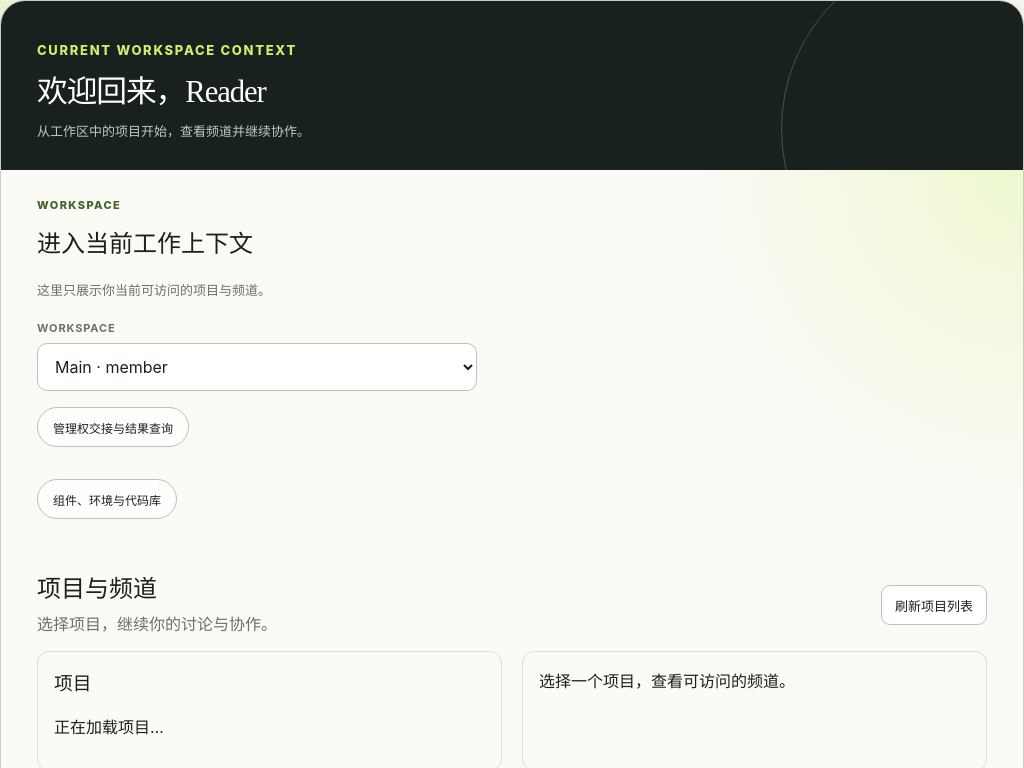
Test: Workspace discovery › clears the old workspace and ignores its late response
The width and height of the screenshot is (1024, 768).
Select "Other · member" in the dropdown labelled "Workspace" at (257,367), box [37, 343, 477, 391]
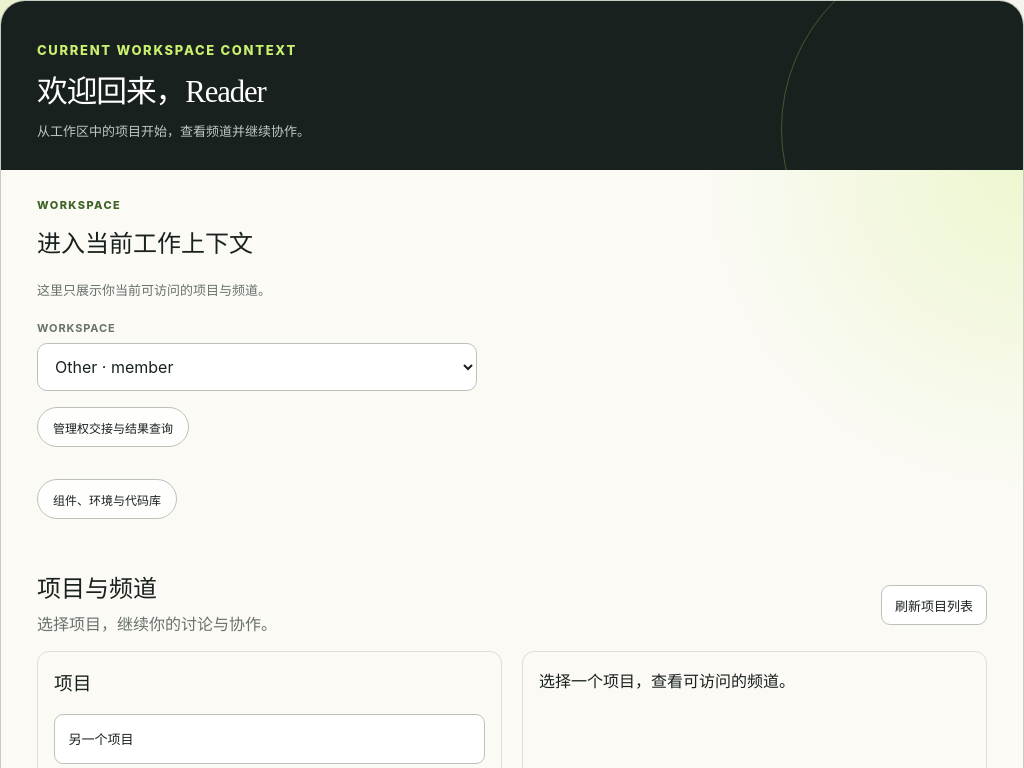
Expected: the button "另一个项目" is shown, [54, 714, 485, 764]
